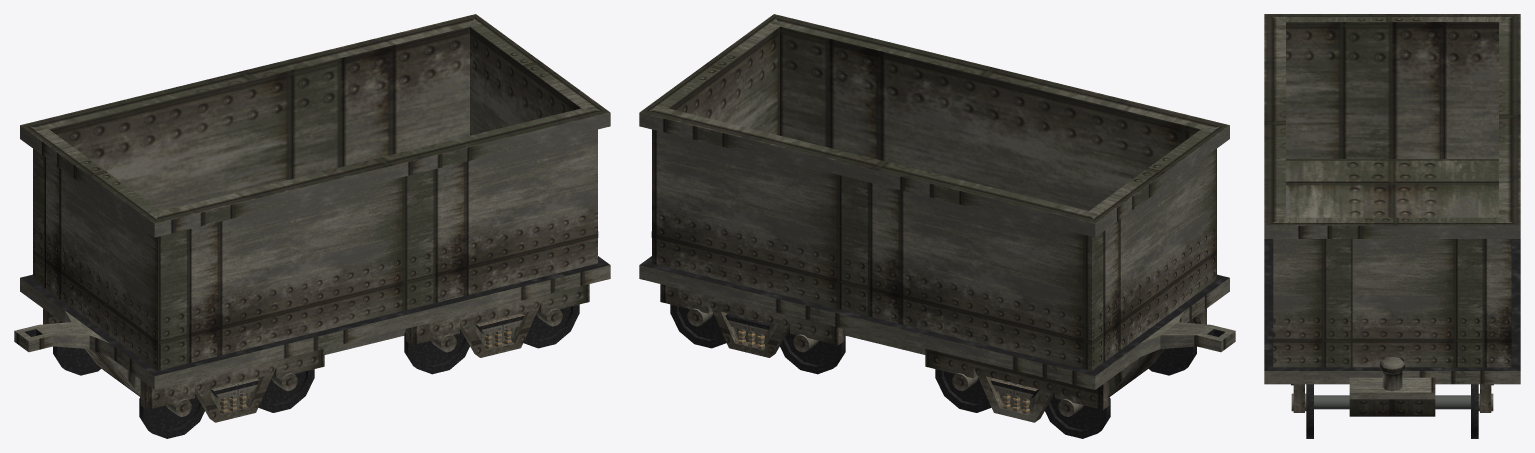
The model's file is vagao-1.fbx.
3 views of the same model, side by side, from view 1: azimuth 30°, elevation 25°; view 2: azimuth 150°, elevation 25°; view 3: azimuth 270°, elevation 25° (orthographic). The views are drawn at different scales.
Parts seen in each view (by area): view 1: Cube.002; view 2: Cube.002; view 3: Cube.002.
Part boxes in pixels (x1,y1,x2,y2): Cube.002: (14, 14, 610, 438); Cube.002: (639, 14, 1235, 438); Cube.002: (1264, 14, 1520, 438).
Size of the model in its own units: 5.23 by 2.16 by 2.2.
Materials: 1 (1 with a texture image).
